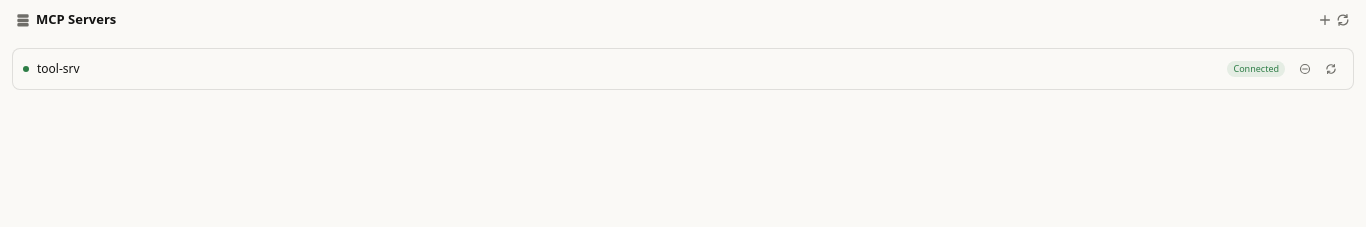
Test: McpSection server row expansion › shows tools list when server has tools
The image size is (1366, 227).
Expand the server
Click the button "tool-srv" at point(58, 68), box x1=37 y1=60 x2=1220 y2=78
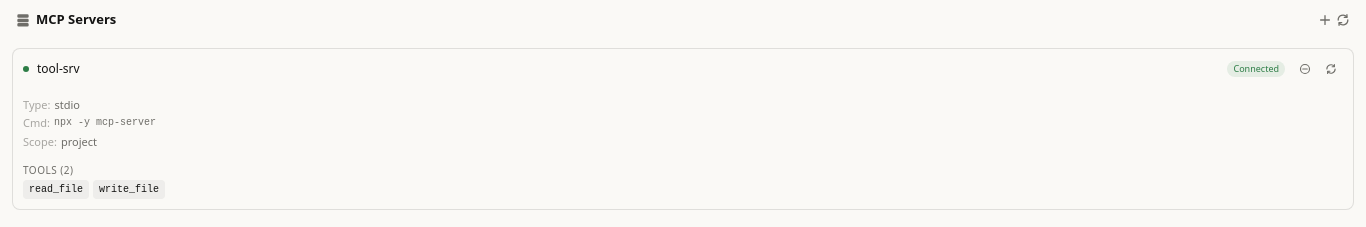
Now the text "Tools (2)" is shown, box x1=23 y1=163 x2=74 y2=177
Now the text "read_file" is shown, box x1=23 y1=180 x2=89 y2=199
Now the text "write_file" is shown, box x1=93 y1=180 x2=165 y2=199
